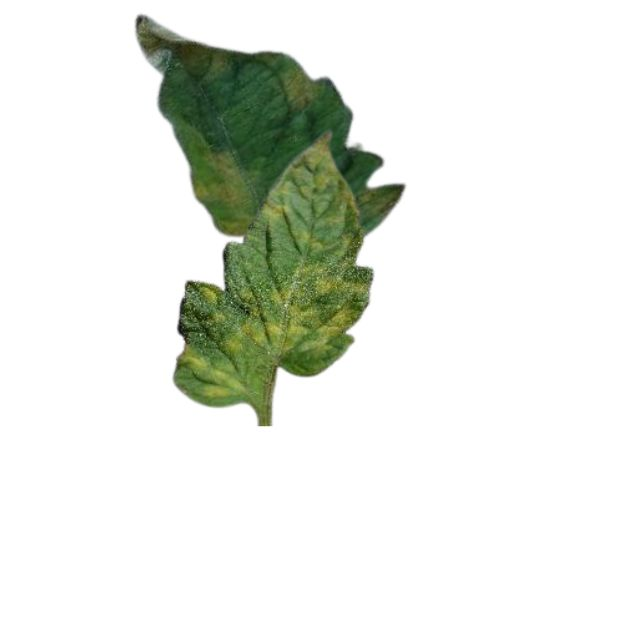Leaf_Mold: (172, 234, 374, 399), (171, 115, 257, 238), (134, 13, 238, 83), (276, 131, 344, 195), (271, 64, 322, 111), (351, 183, 406, 217), (260, 195, 293, 221)
